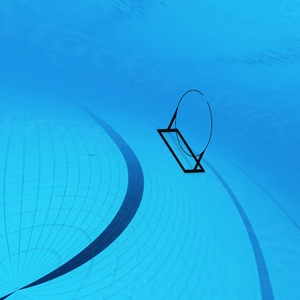circle: (155, 88, 223, 178)
